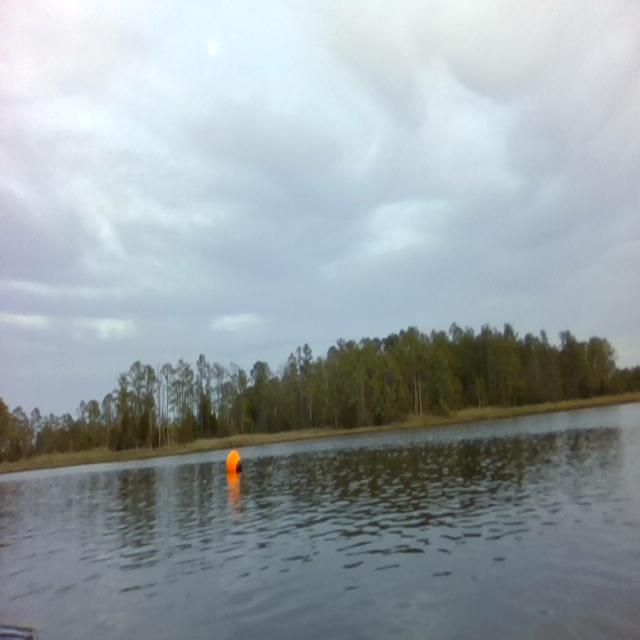Buoy: (226, 448, 244, 477)
